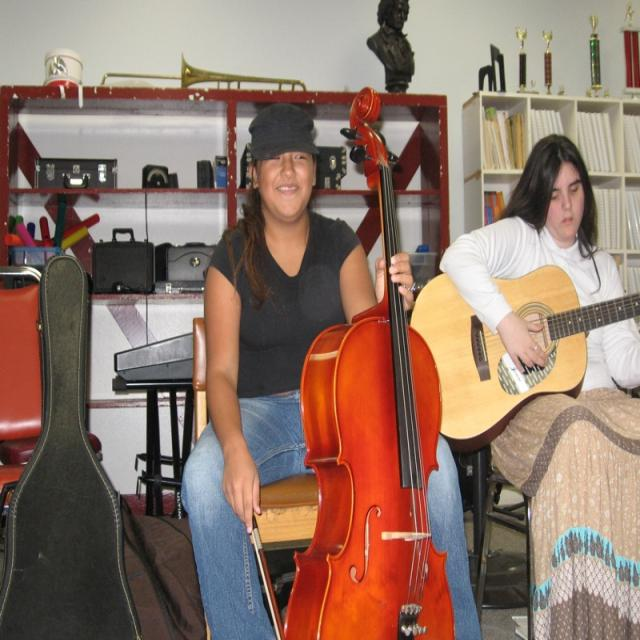cello: (289, 76, 460, 640)
guitar: (403, 256, 640, 453)
